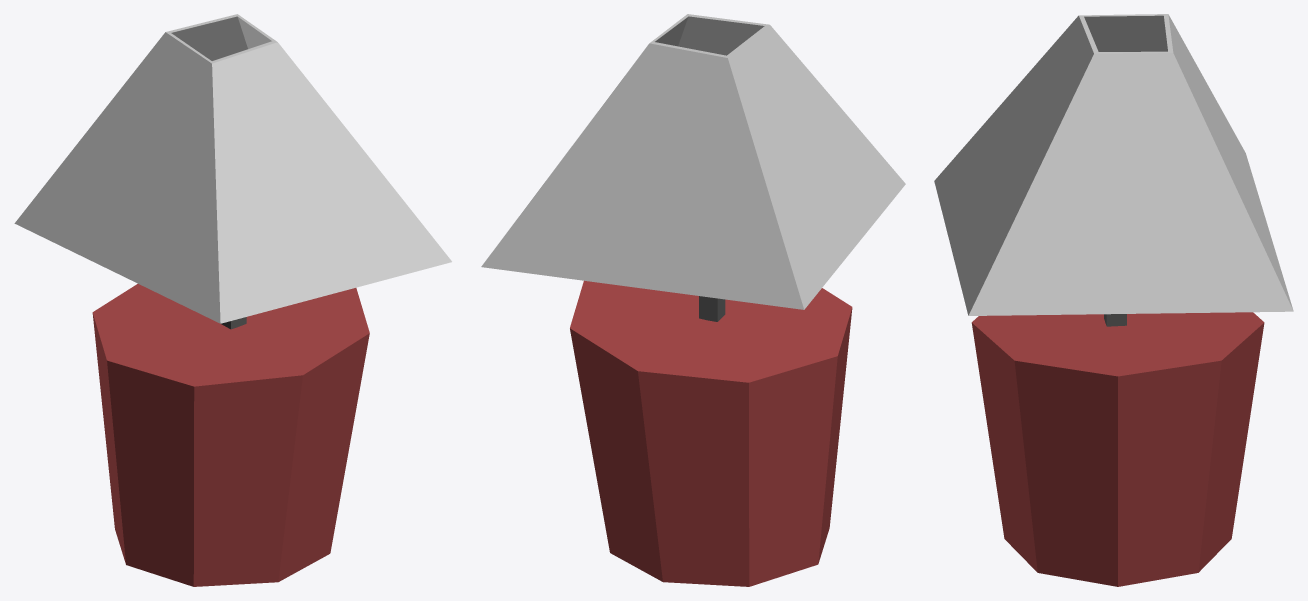
Rendered from GGJ_wc_abatjour.fbx.
The picture shows the model from 3 angles, left to right: view 1: azimuth 30°, elevation 25°; view 2: azimuth 150°, elevation 25°; view 3: azimuth 270°, elevation 25°; orthographic projection.
Parts seen in each view (by area): view 1: abatjour_cover, abatjour_base; view 2: abatjour_cover, abatjour_base, abatjour_metal; view 3: abatjour_cover, abatjour_base.
Part boxes in pixels (box(x1,y1,x2,y2)): abatjour_cover: box(14, 14, 451, 323); abatjour_base: box(92, 284, 369, 586); abatjour_cover: box(481, 14, 905, 309); abatjour_base: box(570, 280, 852, 586); abatjour_metal: box(699, 296, 725, 321); abatjour_cover: box(934, 14, 1293, 315); abatjour_base: box(971, 312, 1264, 586).
Size of the model in its own units: 0.00217 by 0.00343 by 0.0022.
